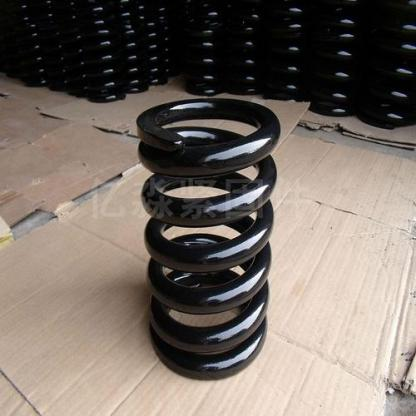FOD: (136, 95, 282, 382)
